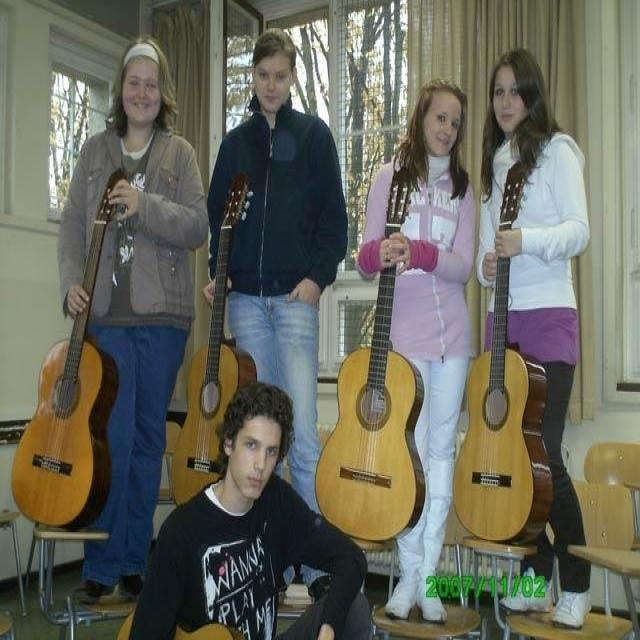guitar: (11, 167, 131, 533), (314, 166, 425, 541), (452, 161, 552, 548), (171, 170, 261, 516), (114, 606, 253, 639)
